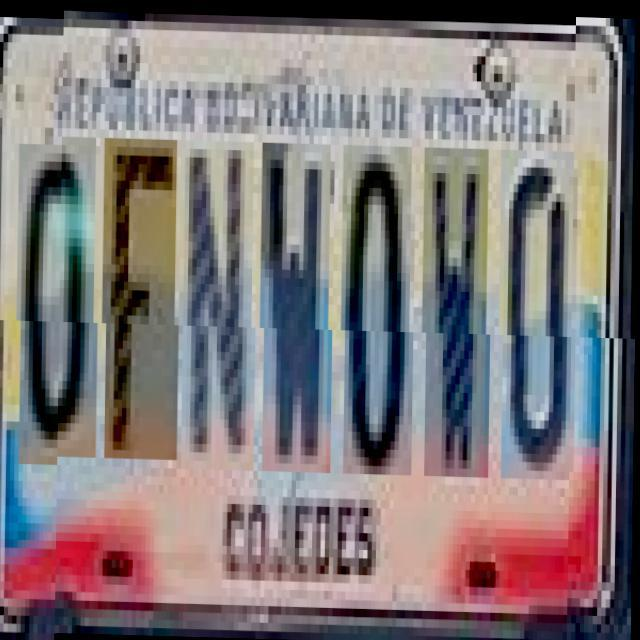0: (502, 146, 578, 476)
F: (106, 137, 182, 459)
N: (182, 139, 258, 469)
O: (20, 135, 101, 457), (344, 143, 416, 473)
W: (264, 141, 336, 471), (426, 145, 494, 475)
